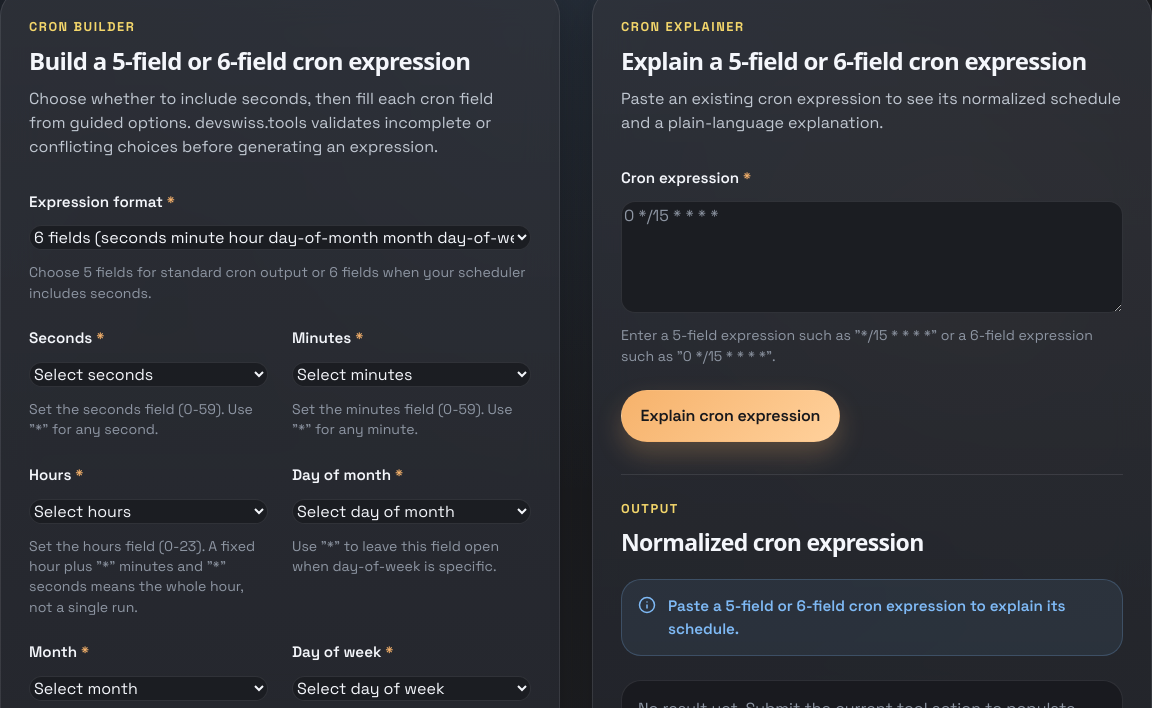
Cron tool flow › clarifies that wildcard seconds and minutes keep a fixed hour running continuously
This screenshot has width=1152, height=708.
Select "Any second (*)" in the dropdown labelled "Seconds *" at (148, 374), box top-left (29, 362), bottom-right (268, 387)
Select "Any minute (*)" in the dropdown labelled "Minutes *" at (412, 374), box top-left (292, 362), bottom-right (531, 387)
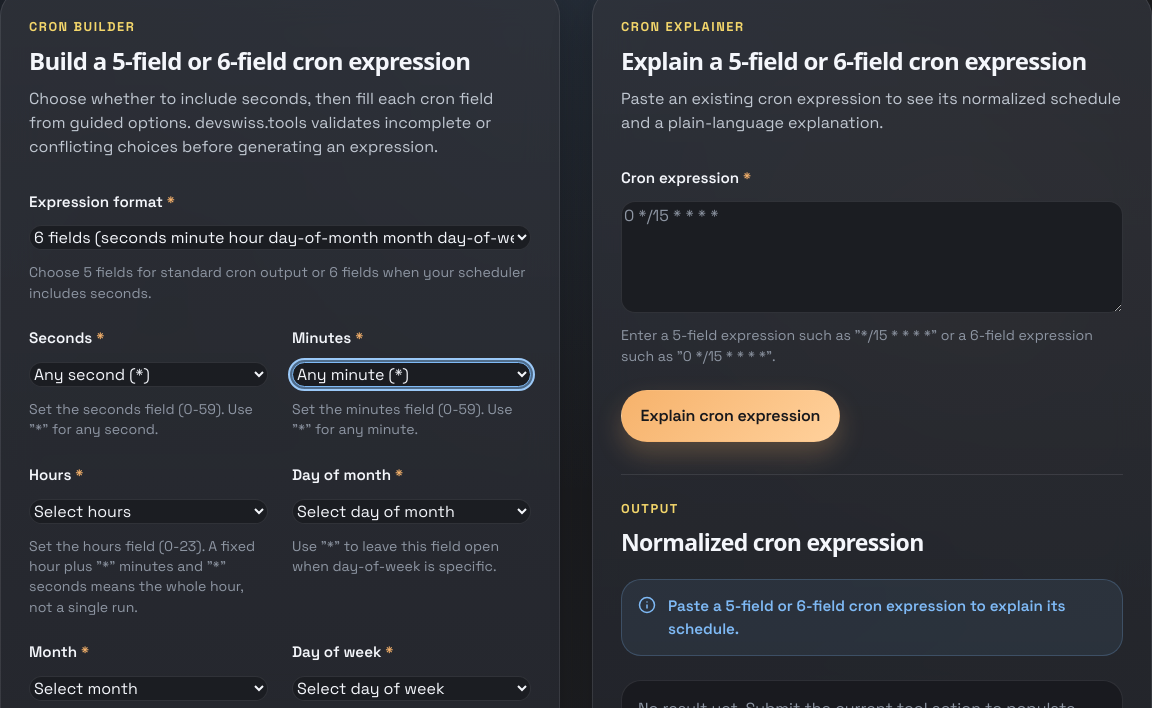
Select "12:00 hour" in the dropdown labelled "Hours *" at (148, 511), box top-left (29, 499), bottom-right (268, 524)
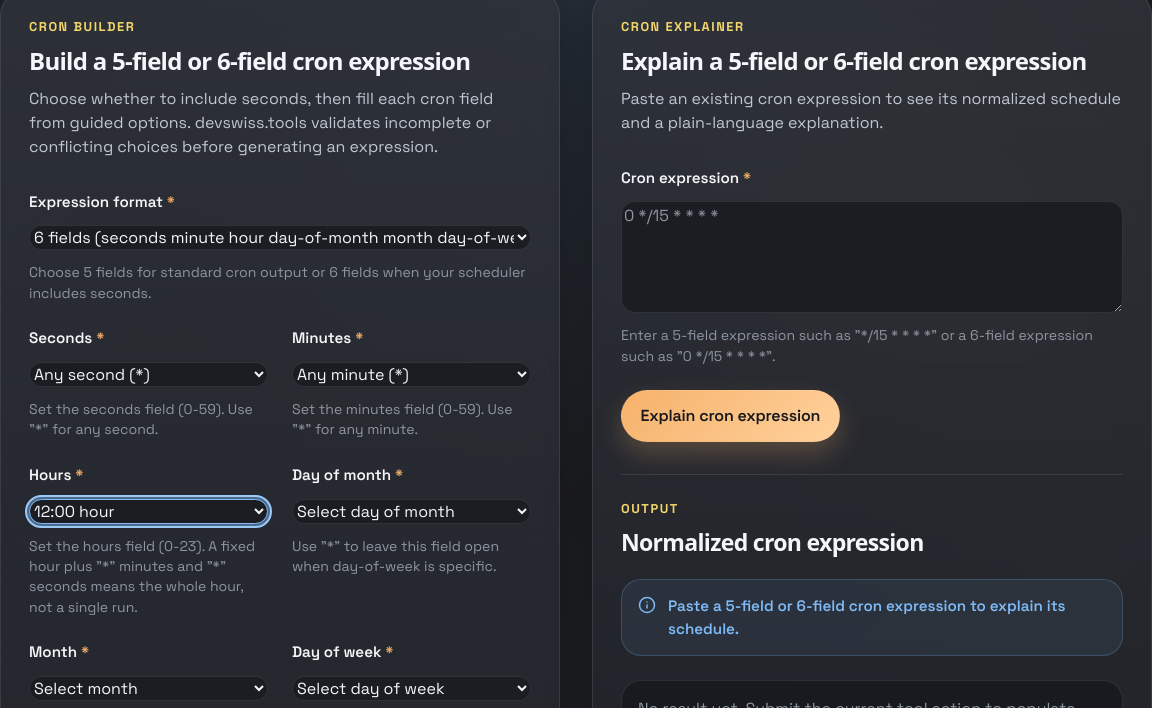
Select "Any day of month (*)" in the dropdown labelled "Day of month *" at (412, 511), box top-left (292, 499), bottom-right (531, 524)
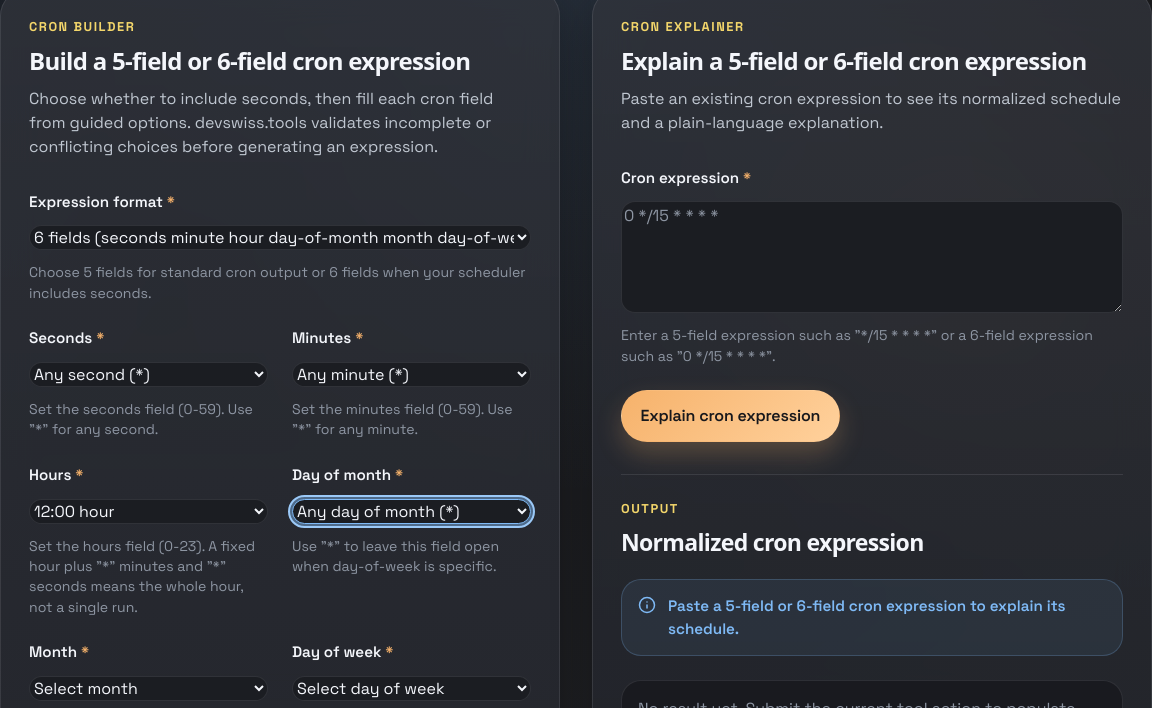
Select "Any month (*)" in the dropdown labelled "Month *" at (148, 688), box top-left (29, 676), bottom-right (268, 701)
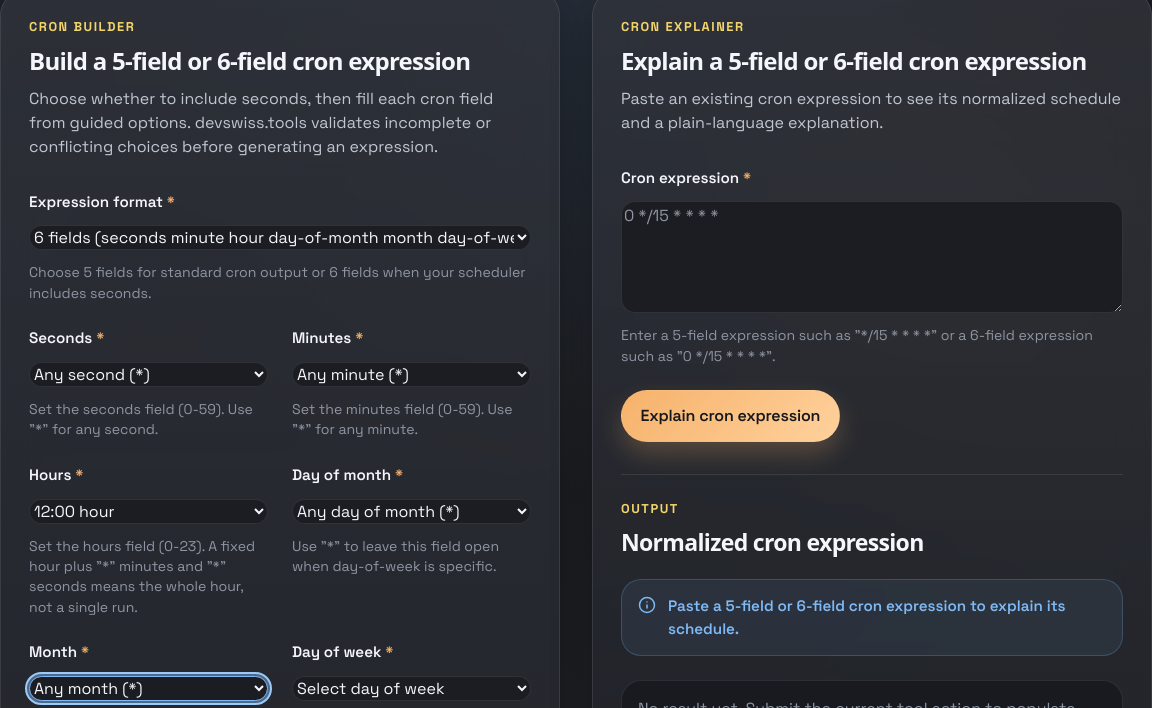
Select "Any day of week (*)" in the dropdown labelled "Day of week *" at (412, 688), box top-left (292, 676), bottom-right (531, 701)
(page scrolled)
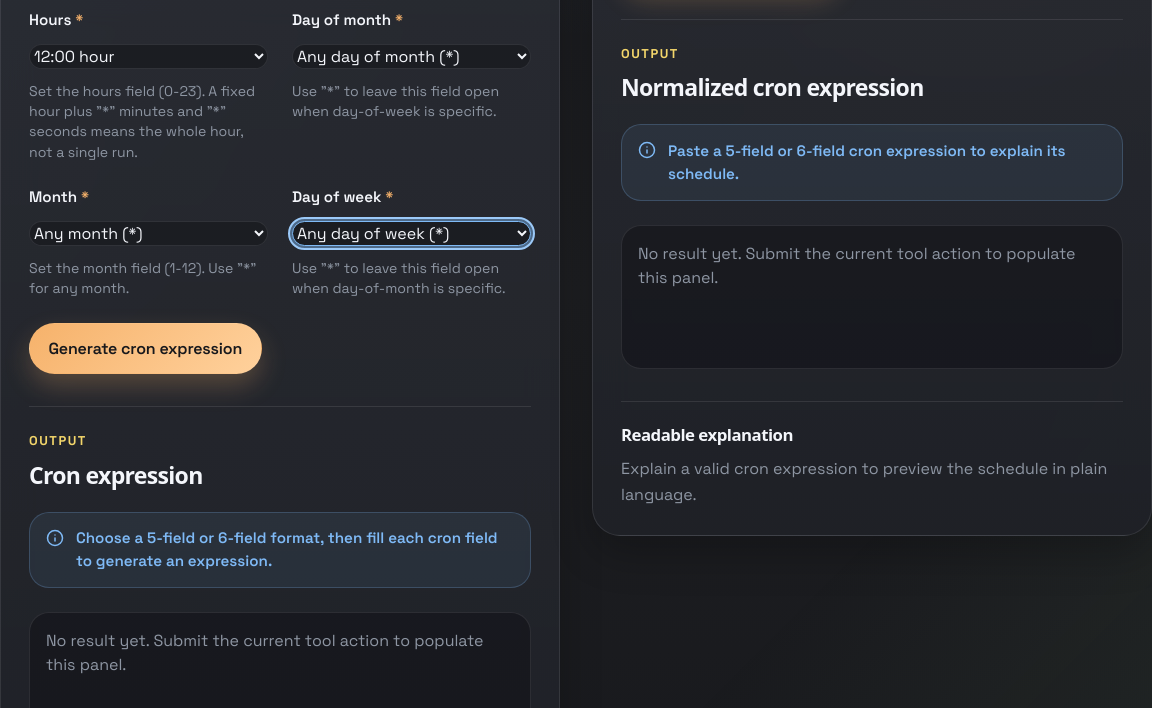
Click the button "Generate cron expression" at (145, 349), box top-left (29, 323), bottom-right (262, 374)
(page scrolled)
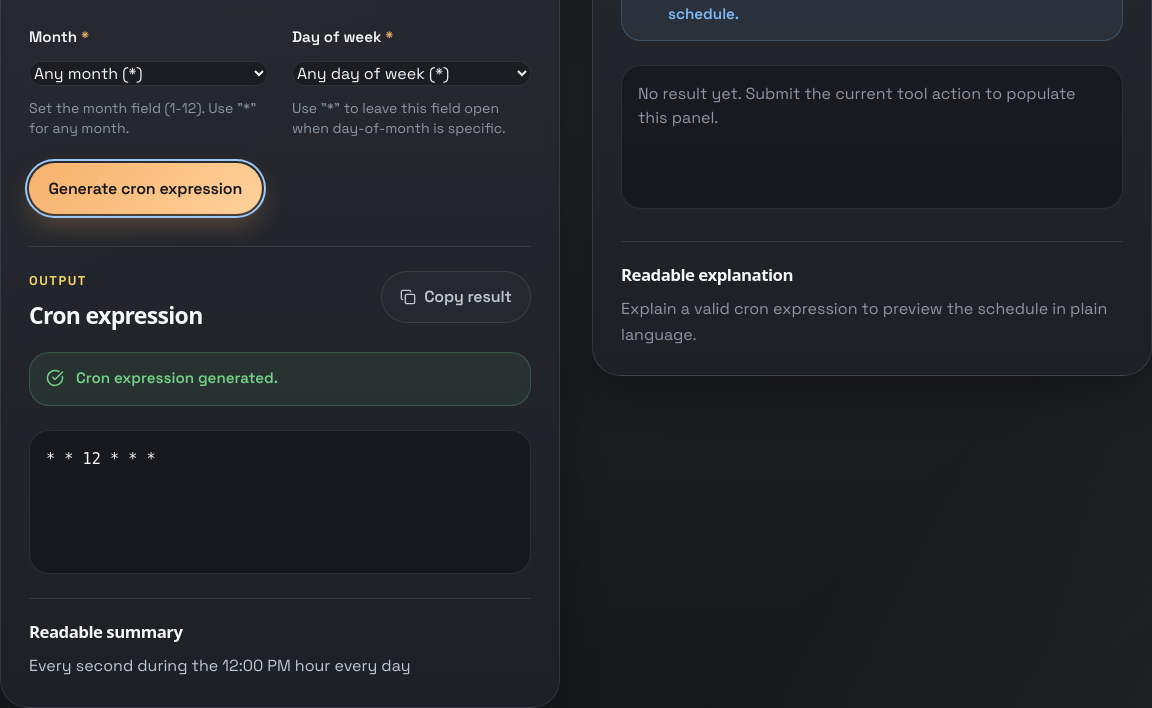
Expected: the text "* * 12 * * *" is shown, top-left (46, 450), bottom-right (156, 468)
Expected: the text "Every second during the 12:00 PM hour every day" is shown, top-left (29, 655), bottom-right (410, 676)
